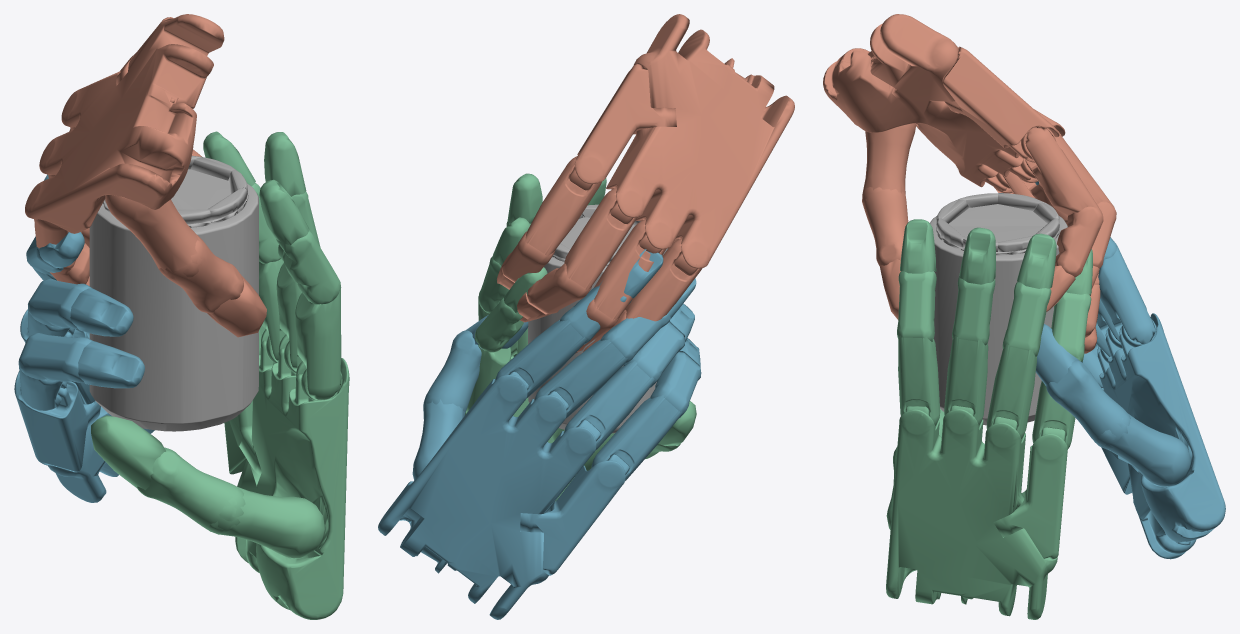
3 views of the same model, side by side, from view 1: azimuth 30°, elevation 25°; view 2: azimuth 150°, elevation 25°; view 3: azimuth 270°, elevation 25° (orthographic). The views are drawn at different scales.
Size of the model in its own units: 0.1394 by 0.2995 by 0.2017.
